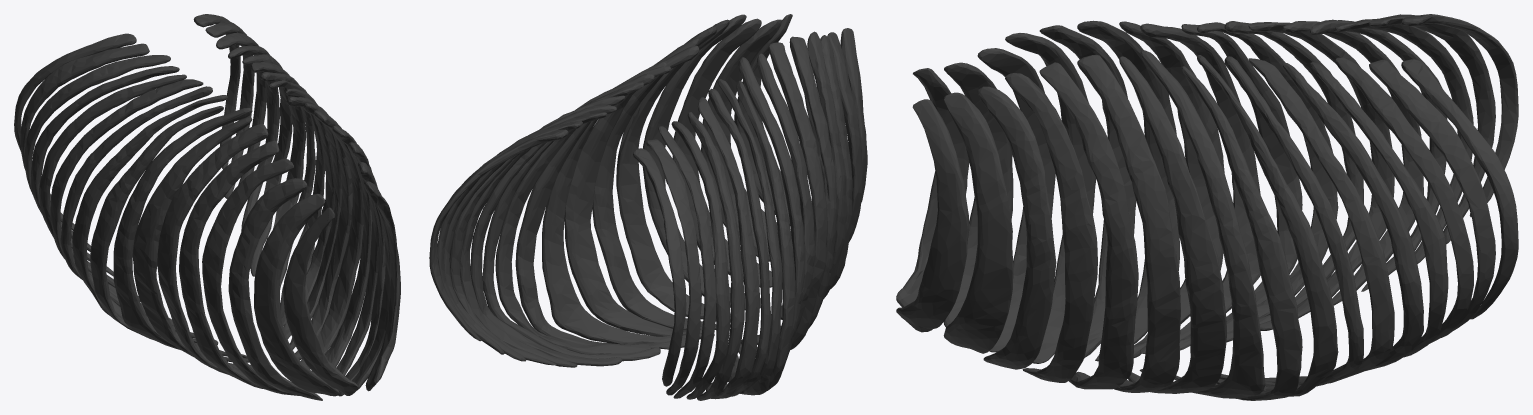
The model's file is m_intercostals_internal.glb.
3 views of the same model, side by side, from view 1: azimuth 30°, elevation 25°; view 2: azimuth 150°, elevation 25°; view 3: azimuth 270°, elevation 25° (orthographic). The views are drawn at different scales.
Visible parts, largest first — view 1: m_intercostals_internal; view 2: m_intercostals_internal; view 3: m_intercostals_internal.
Boxes of the visible parts, x1,y1,x2,y2 form: m_intercostals_internal: (14,14,400,400); m_intercostals_internal: (429,14,867,400); m_intercostals_internal: (896,14,1518,400).
Size of the model in its own units: 0.0078 by 0.00778 by 0.0132.
Materials: 1 (1 with a texture image).
